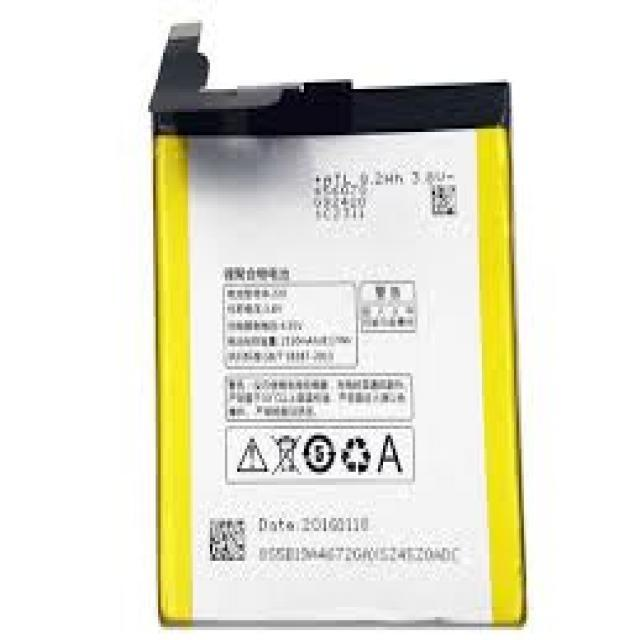battery: (151, 20, 527, 630)
